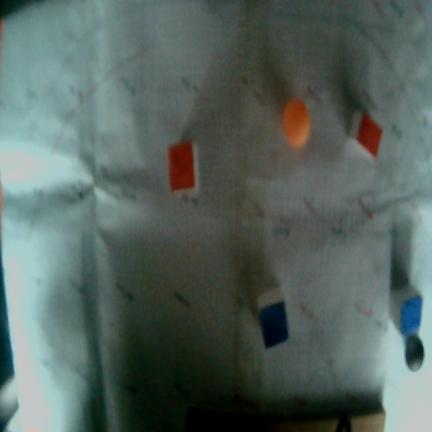circle_blue: (405, 334, 424, 371)
circle_orange: (282, 98, 311, 148)
rectangle_blue: (399, 296, 421, 339)
rectangle_orange: (356, 112, 383, 159)
square_blue: (260, 299, 291, 351)
square_orange: (169, 141, 196, 191)
